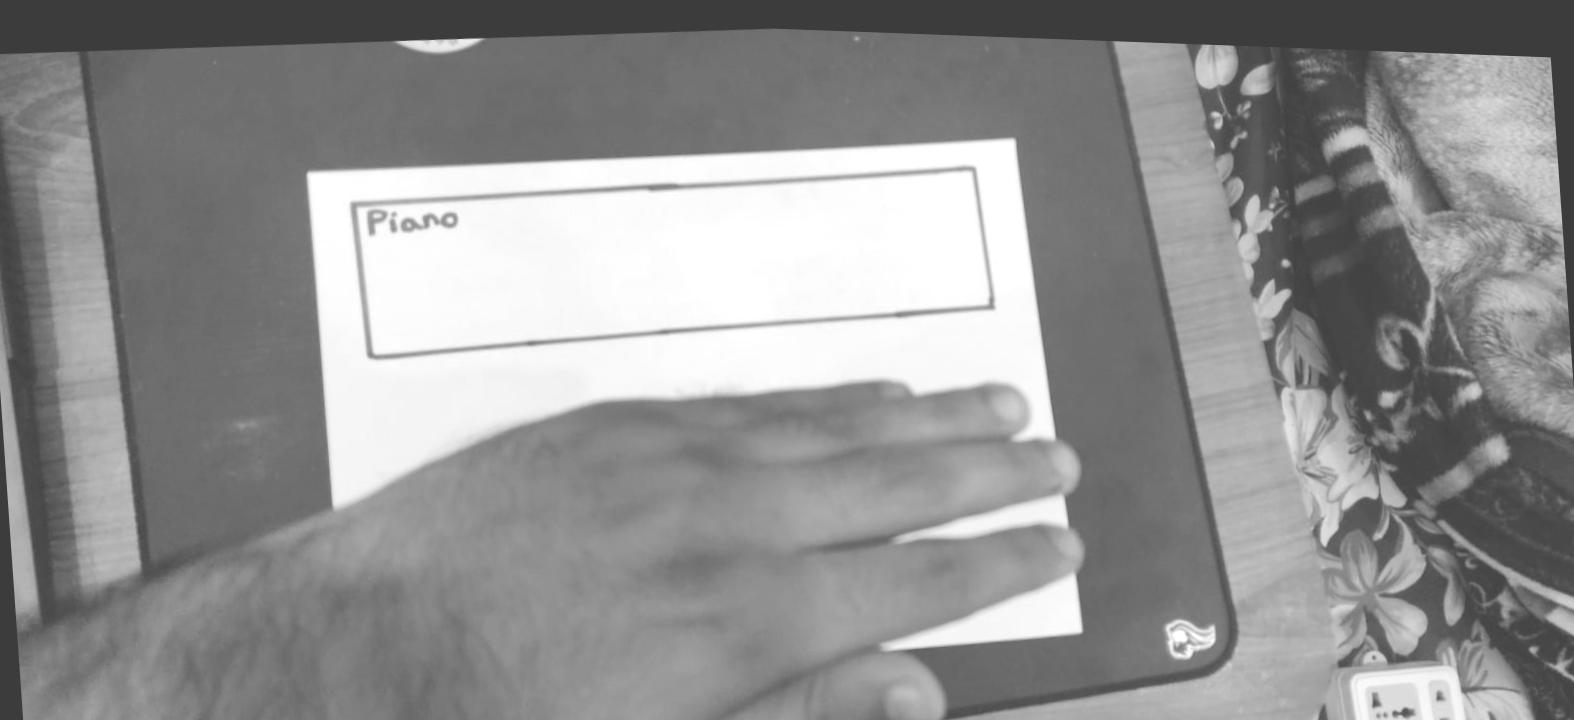paper-piano: (356, 158, 994, 345)
